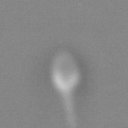normal: (58, 92, 88, 128)
